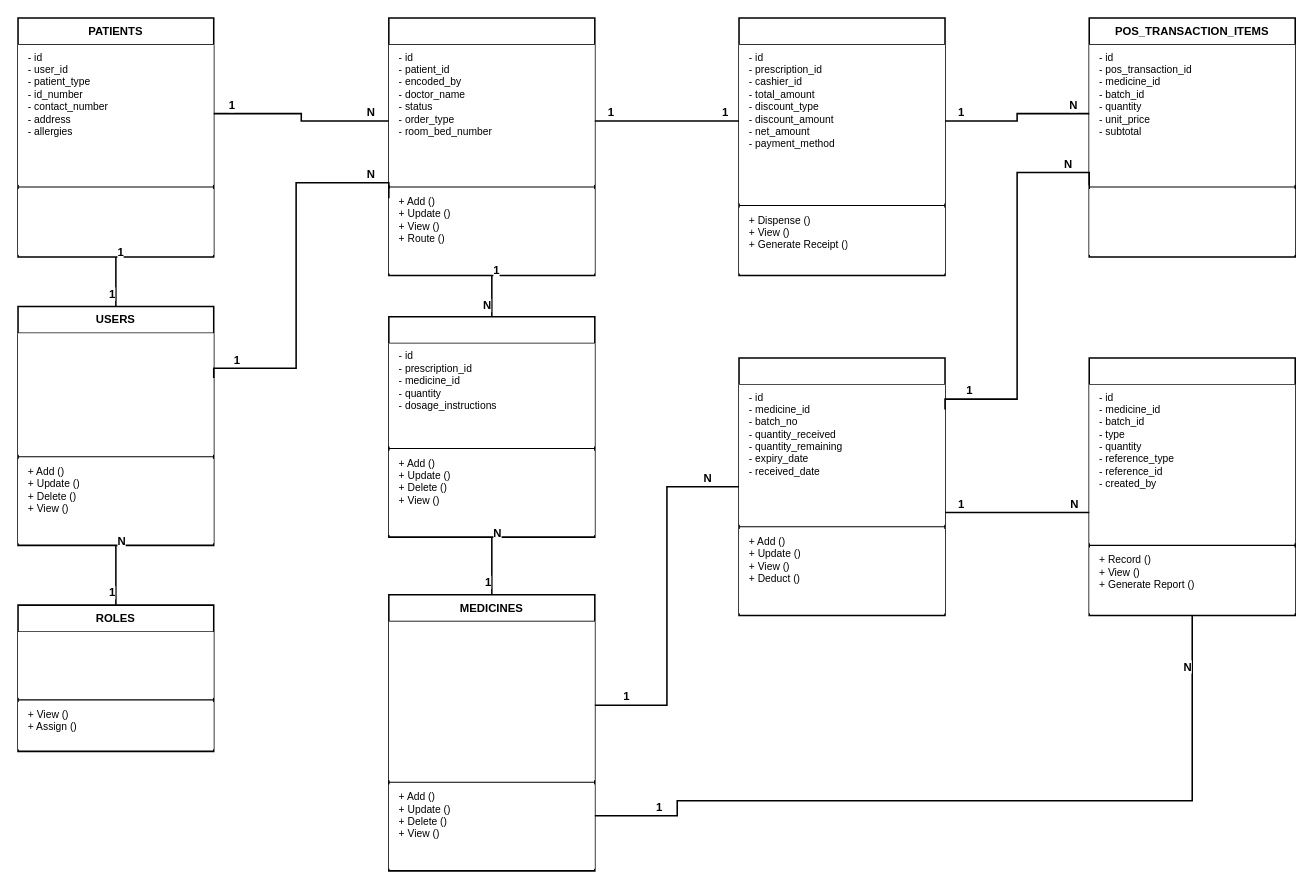
This 1314x890 diagram has some shape labels left out. Here are the shapes that lost their labels. From the top down, the box of each, then its label:
(388, 17, 595, 276): PRESCRIPTIONS
(738, 17, 945, 276): POS_TRANSACTIONS
(18, 188, 213, 254): + Add () + Update () + View ()
(1089, 188, 1295, 254): + Add () + Calculate () + View ()
(18, 333, 213, 454): - id - user_id - name - email - password - is_active
(388, 315, 595, 537): PRESCRIPTION_ITEMS
(738, 357, 945, 616): STOCK_BATCHES
(1088, 357, 1296, 616): STOCK_MOVEMENTS
(18, 631, 213, 697): - id - name - guard_name
(388, 621, 594, 780): - id - code - name - generic_name - category - unit - unit_price - reorder_level
